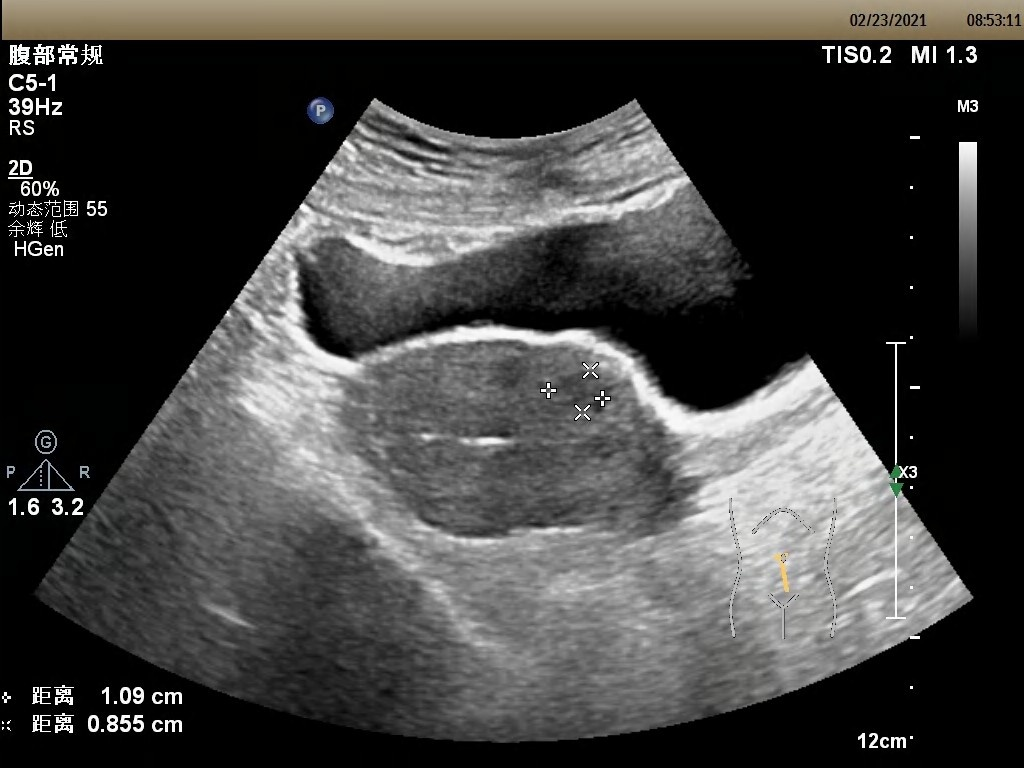肌瘤: (560, 374, 606, 407)
